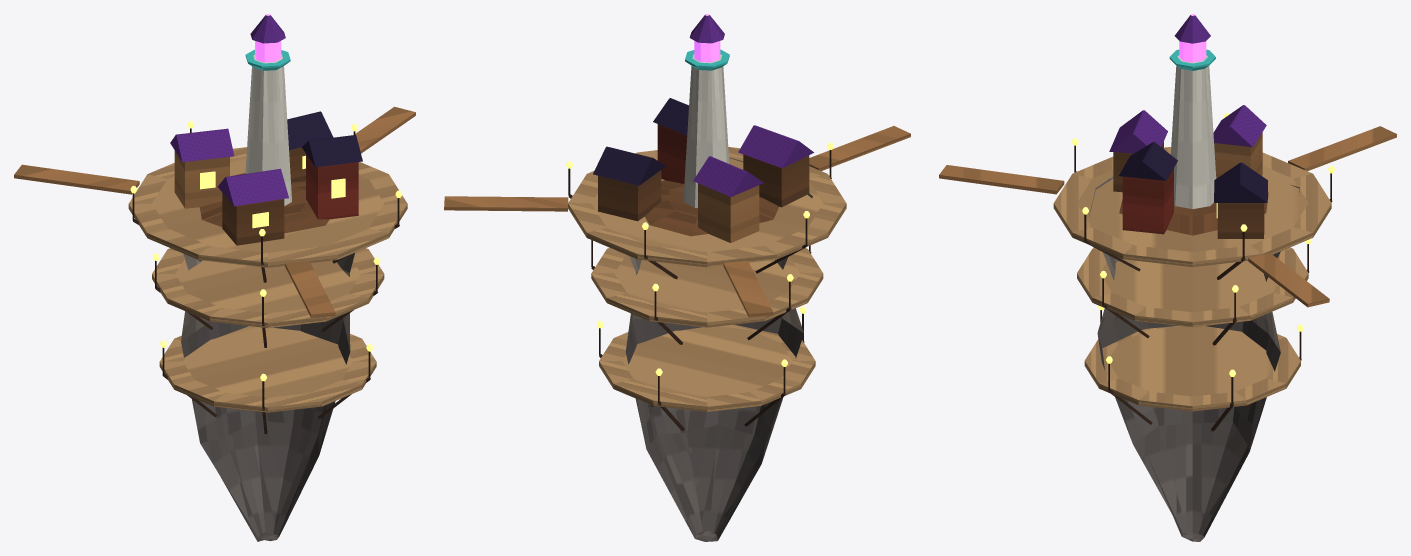
Rendered from SM_Env_SmugglersHaven_HQ.glb.
3 views of the same model, side by side, from view 1: azimuth 30°, elevation 25°; view 2: azimuth 150°, elevation 25°; view 3: azimuth 270°, elevation 25° (orthographic).
Visible parts, largest first — view 1: SM_Env_SmugglersHaven_HQ; view 2: SM_Env_SmugglersHaven_HQ; view 3: SM_Env_SmugglersHaven_HQ.
Part boxes in pixels (<box>): SM_Env_SmugglersHaven_HQ: <box>14,14,415,541</box>; SM_Env_SmugglersHaven_HQ: <box>444,14,910,541</box>; SM_Env_SmugglersHaven_HQ: <box>939,14,1396,541</box>.
Size of the model in its own units: 21.79 by 29.88 by 23.72.
1 material, 1 textured.
